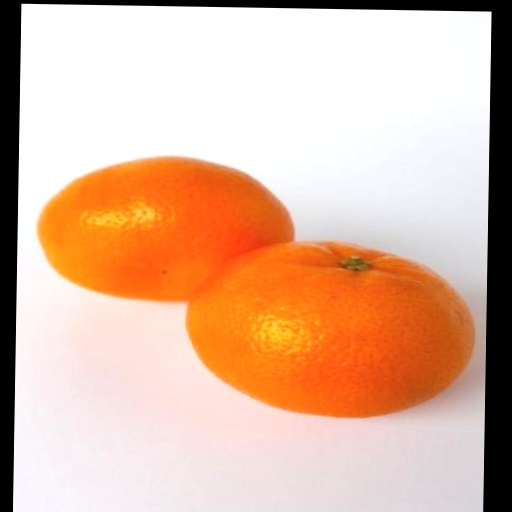fruit: (186, 242, 472, 417), (38, 158, 292, 300)
